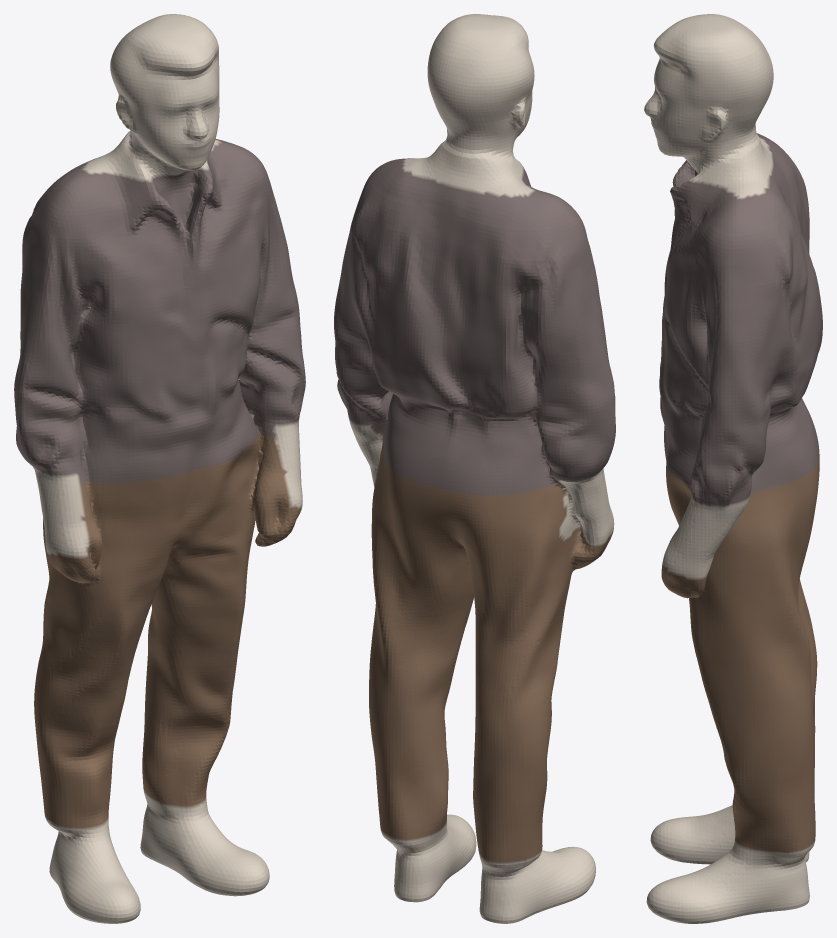
The model's file is shirt6_pant3.glb.
3 renders of one model, left to right at view 1: azimuth 30°, elevation 25°; view 2: azimuth 150°, elevation 25°; view 3: azimuth 270°, elevation 25°, orthographic.
Parts seen in each view (by area): view 1: geometry_0; view 2: geometry_0; view 3: geometry_0.
Part boxes in pixels (x1,y1,x2,y2): geometry_0: [14, 14, 305, 923]; geometry_0: [334, 14, 615, 923]; geometry_0: [644, 14, 822, 923].
Size of the model in its own units: 0.6743 by 1.99 by 0.3729.
